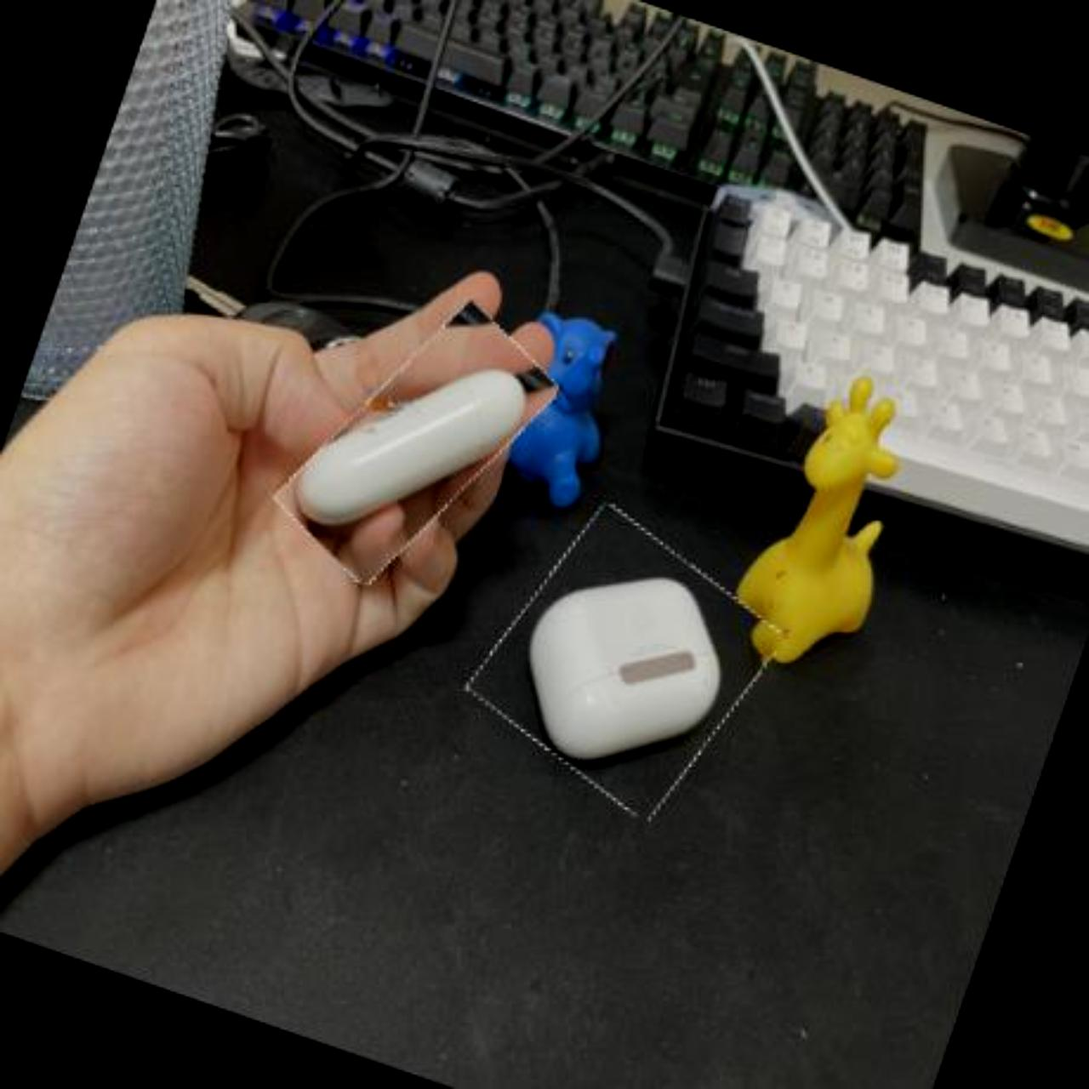AirPods: (463, 499, 787, 827), (284, 276, 551, 612)
